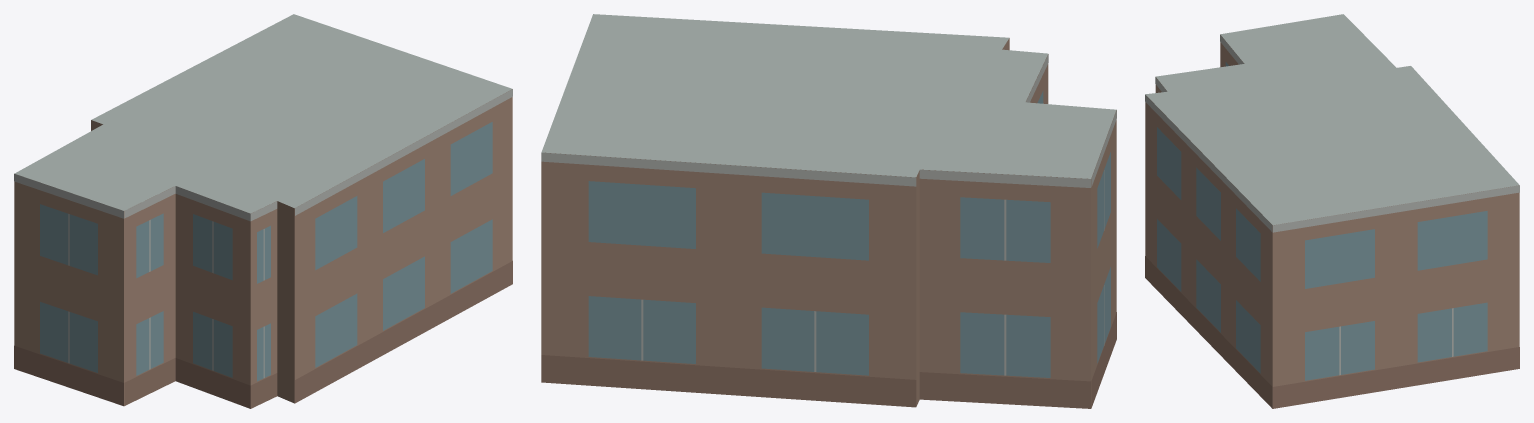
The model's file is survey-upis-32775365.glb.
3 renders of one model, left to right at view 1: azimuth 30°, elevation 25°; view 2: azimuth 150°, elevation 25°; view 3: azimuth 270°, elevation 25°, orthographic. The views are drawn at different scales.
Visible parts, largest first — view 1: survey-upis-32775365.tmp; view 2: survey-upis-32775365.tmp; view 3: survey-upis-32775365.tmp.
Boxes of the visible parts, x1=… form: survey-upis-32775365.tmp: x1=14, y1=14, x2=512, y2=408; survey-upis-32775365.tmp: x1=541, y1=14, x2=1116, y2=408; survey-upis-32775365.tmp: x1=1145, y1=14, x2=1519, y2=408.
Bounding box in the file's own units: 15.07 × 6.1 × 11.3.
